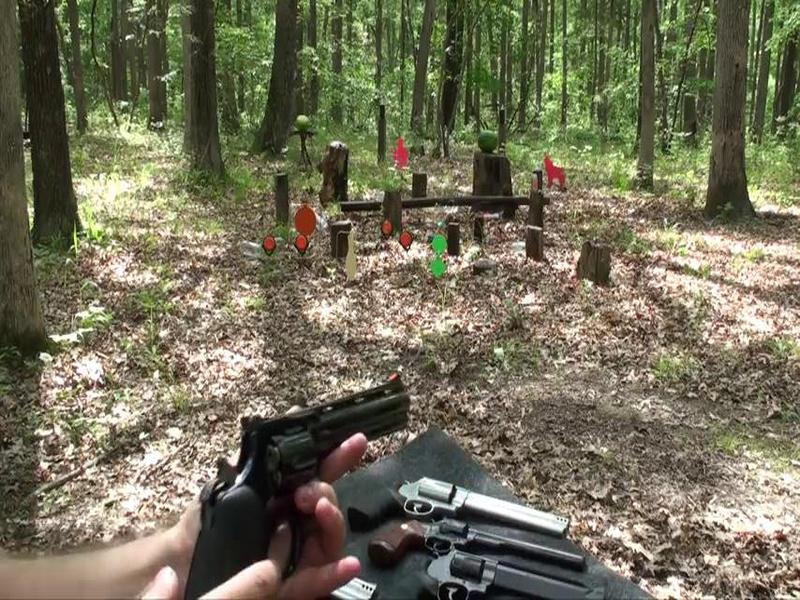Revolver: (175, 376, 440, 600)
